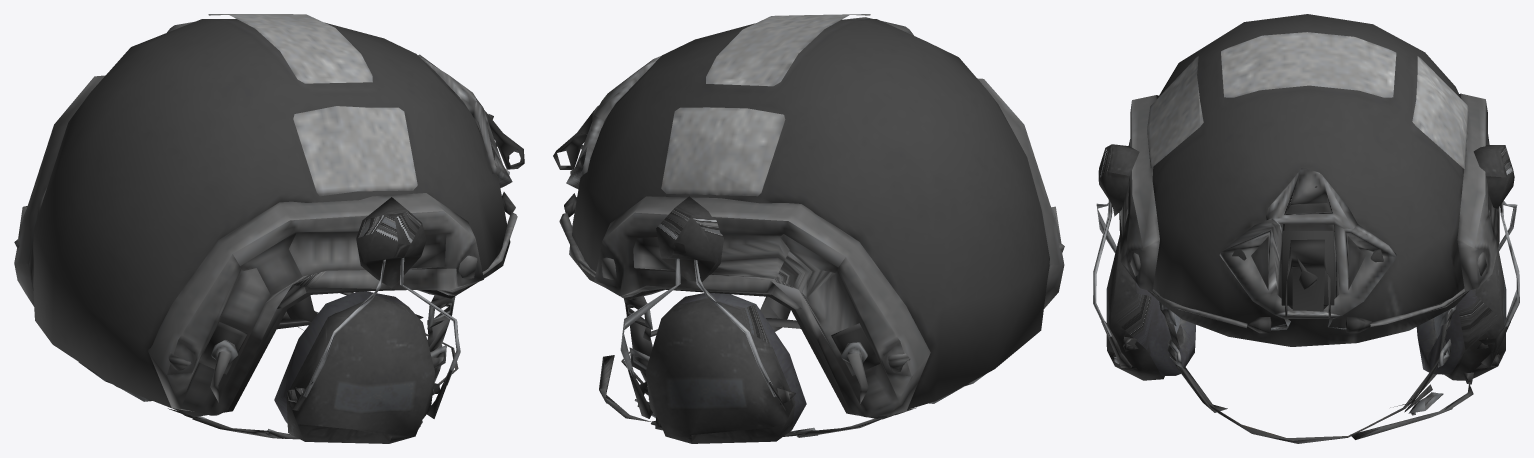
The model's file is GunRunnersHelmet_Bag.fbx.
The picture shows the model from 3 angles, left to right: view 1: azimuth 30°, elevation 25°; view 2: azimuth 150°, elevation 25°; view 3: azimuth 270°, elevation 25°; orthographic projection. The views are drawn at different scales.
Parts seen in each view (by area): view 1: GunRunner Helmet; view 2: GunRunner Helmet; view 3: GunRunner Helmet.
Boxes of the visible parts, x1,y1,x2,y2 form: GunRunner Helmet: [14, 14, 524, 443]; GunRunner Helmet: [553, 14, 1064, 443]; GunRunner Helmet: [1093, 14, 1519, 443].
Size of the model in its own units: 0.156 by 0.1217 by 0.142.
